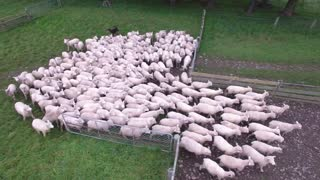sheep: (242, 143, 277, 171), (200, 157, 236, 179), (180, 135, 213, 156), (213, 134, 241, 155), (270, 118, 299, 136), (248, 130, 285, 144), (246, 109, 278, 123), (188, 111, 216, 124), (152, 95, 175, 110), (221, 112, 248, 123), (160, 116, 186, 127), (226, 85, 254, 94), (268, 103, 289, 115), (200, 86, 224, 96), (183, 54, 191, 71)
